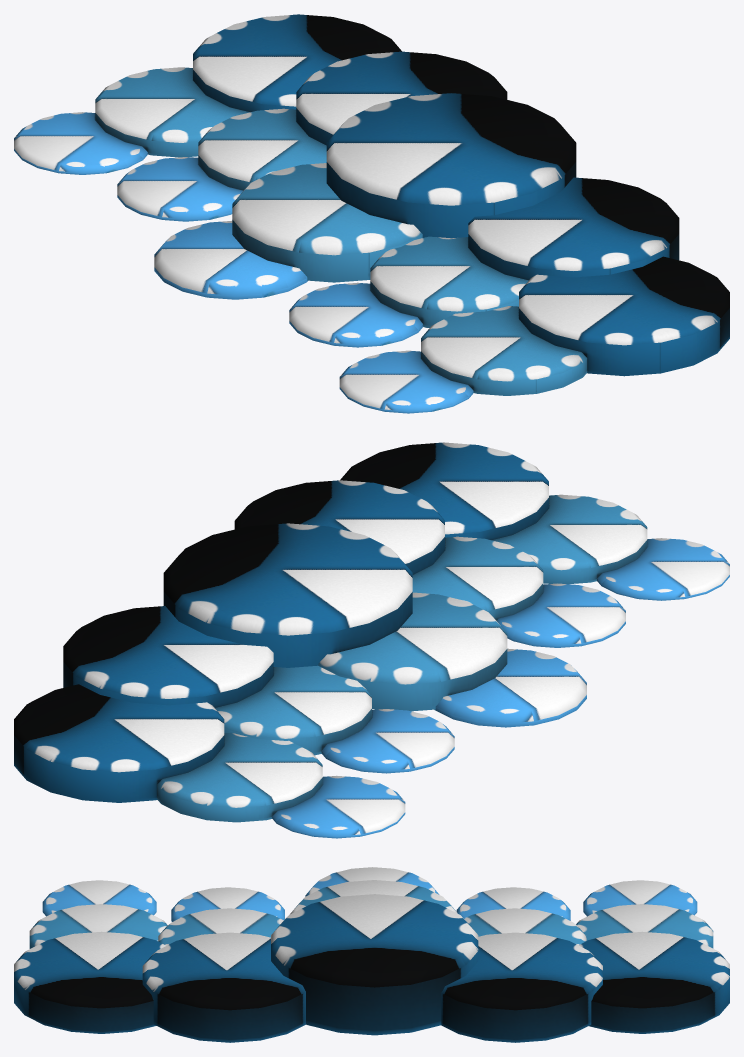
File: Portal_stair.FBX
3 renders of one model, top to bottom at view 1: azimuth 30°, elevation 25°; view 2: azimuth 150°, elevation 25°; view 3: azimuth 270°, elevation 25°, orthographic. The views are drawn at different scales.
Visible parts, largest first — view 1: Joypad_Base003; view 2: Joypad_Base003; view 3: Joypad_Base003.
Boxes of the visible parts, bbox=[...] form: Joypad_Base003: bbox=[14, 14, 729, 413]; Joypad_Base003: bbox=[14, 442, 729, 838]; Joypad_Base003: bbox=[14, 867, 729, 1042].
Size of the model in its own units: 7.39 by 1.17 by 13.25.
